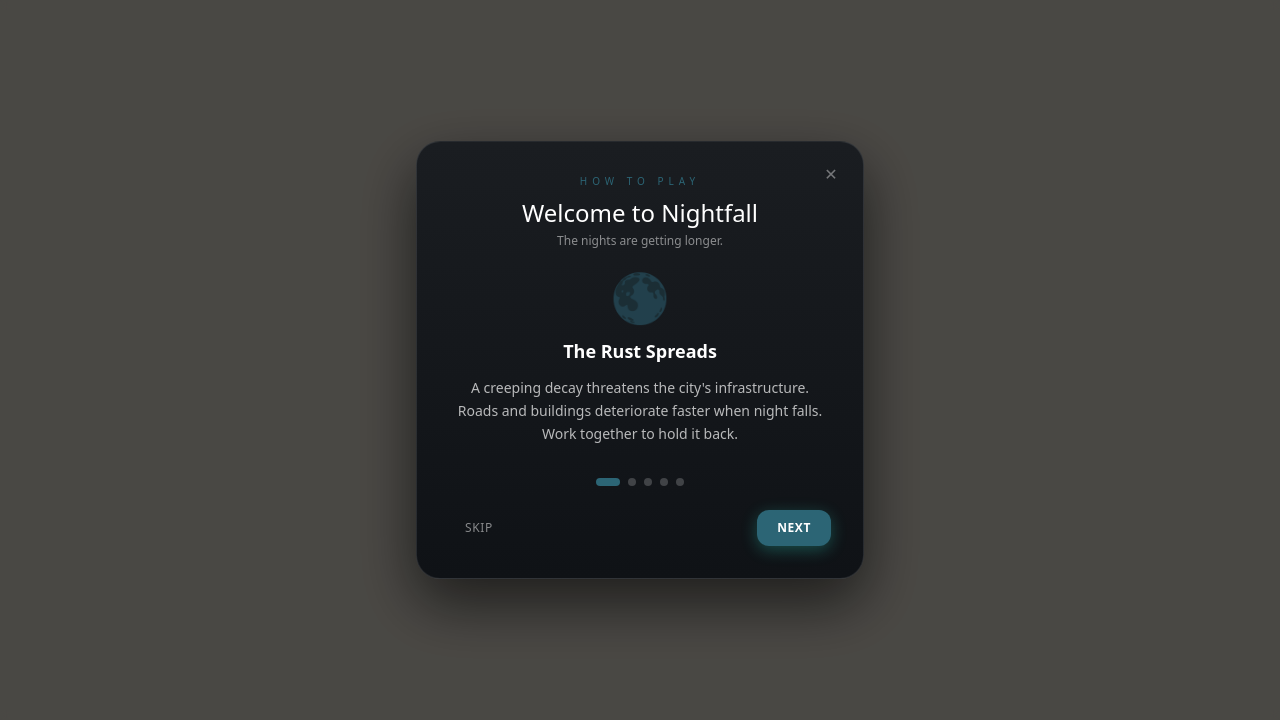
it: OnboardingOverlay › step navigation › goes back to previous step when Back is clicked
This screenshot has width=1280, height=720.
Go to step 2
Click the button "Next" at {"x": 794, "y": 528}, box x1=757 y1=510 x2=831 y2=546
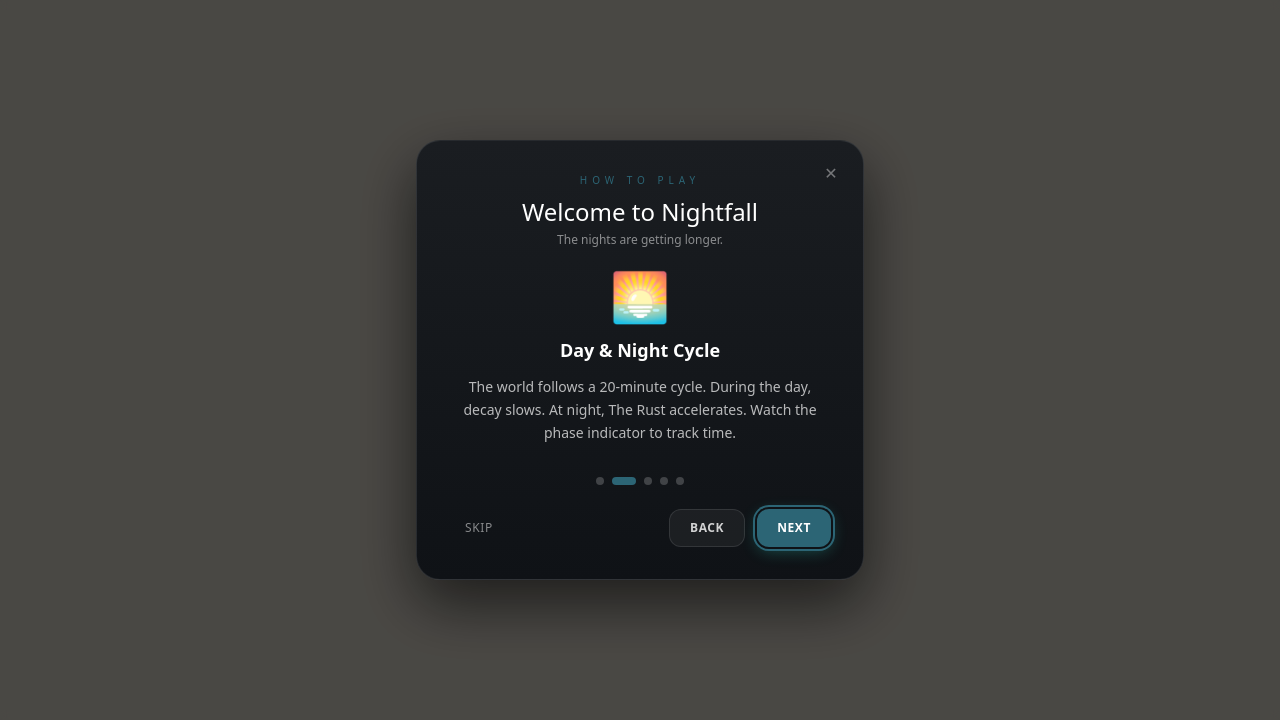
expect the heading "Day & Night Cycle" is shown: met, box x1=560 y1=338 x2=720 y2=362
Go back to step 1
Click the button "Back" at {"x": 707, "y": 528}, box x1=669 y1=509 x2=745 y2=547
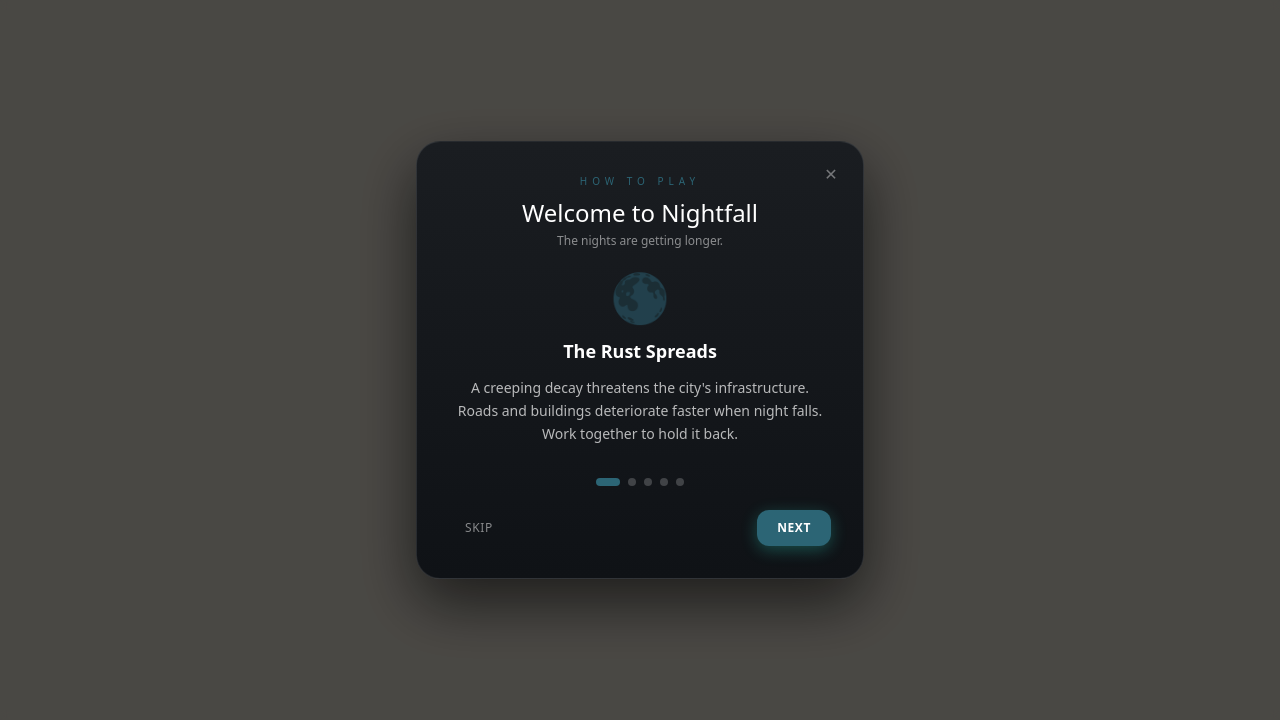
expect the heading "The Rust Spreads" is shown: met, box x1=563 y1=339 x2=717 y2=363
